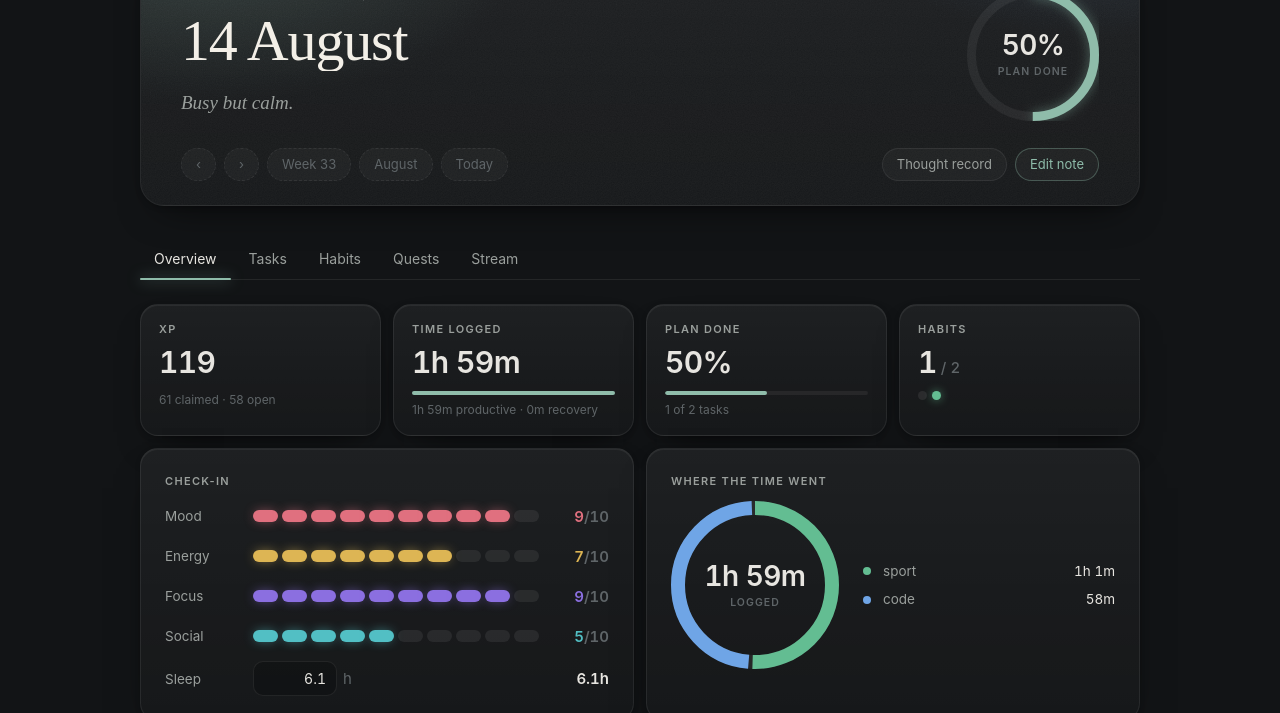
the day page › sets a number from a tap, a typed number, and refuses one out of range
Click the radio button named "Mood 3". click: coordinates (324, 516)
box: [311,510,336,522]
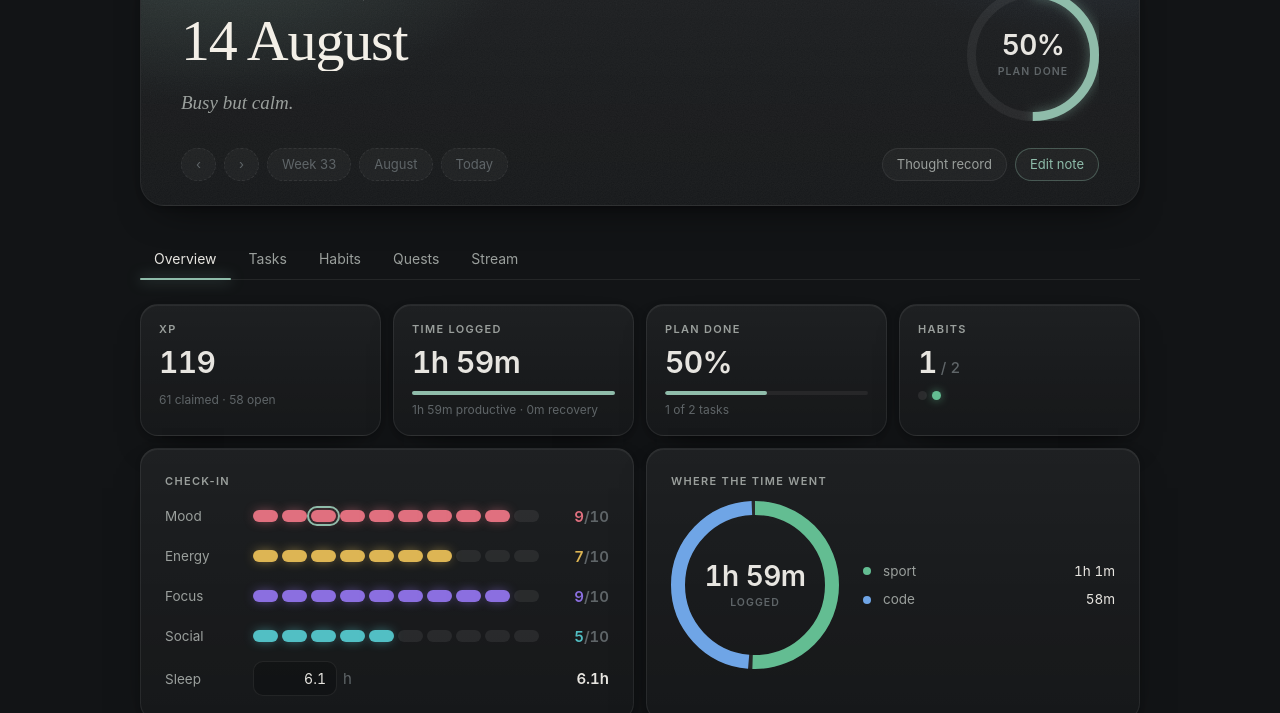
Replace the text in the field named "Sleep" with "7,5". click: coordinates (295, 679)
box: [253,661,337,696]
Then press Enter
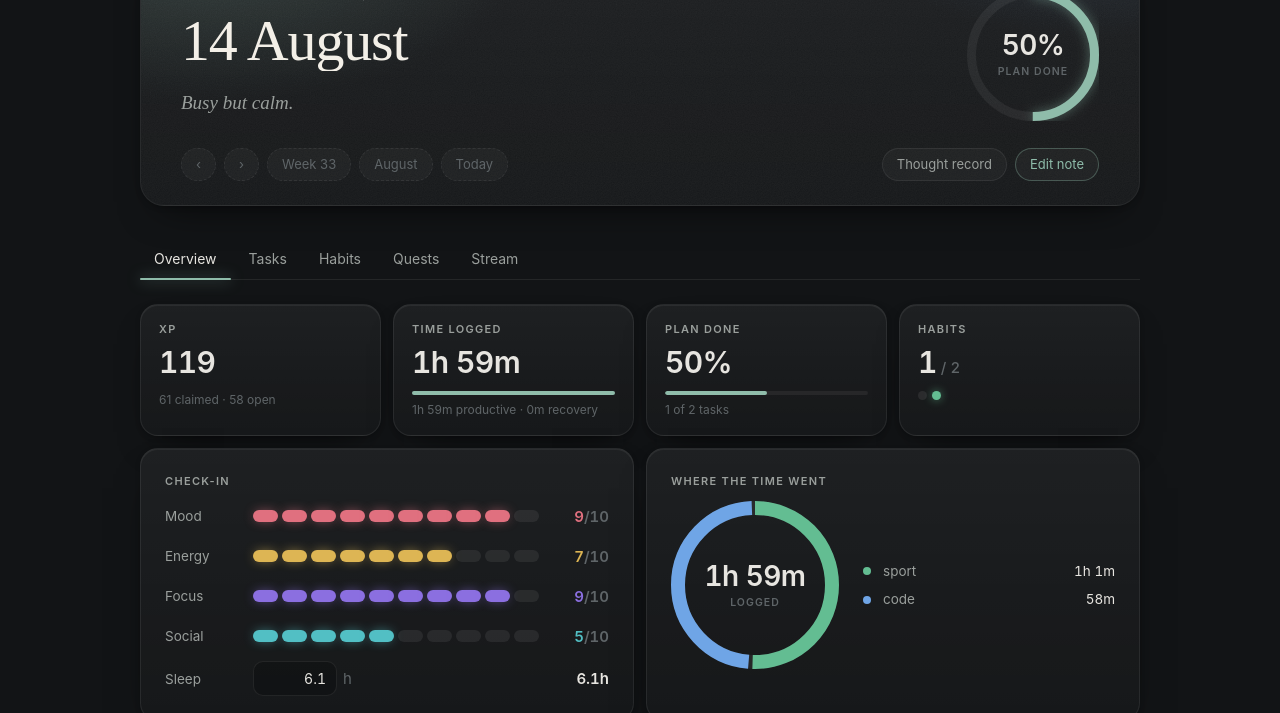
Replace the text in the field named "Sleep" with "30". click: coordinates (295, 679)
box: [253,661,337,696]
Then press Enter
(page scrolled)
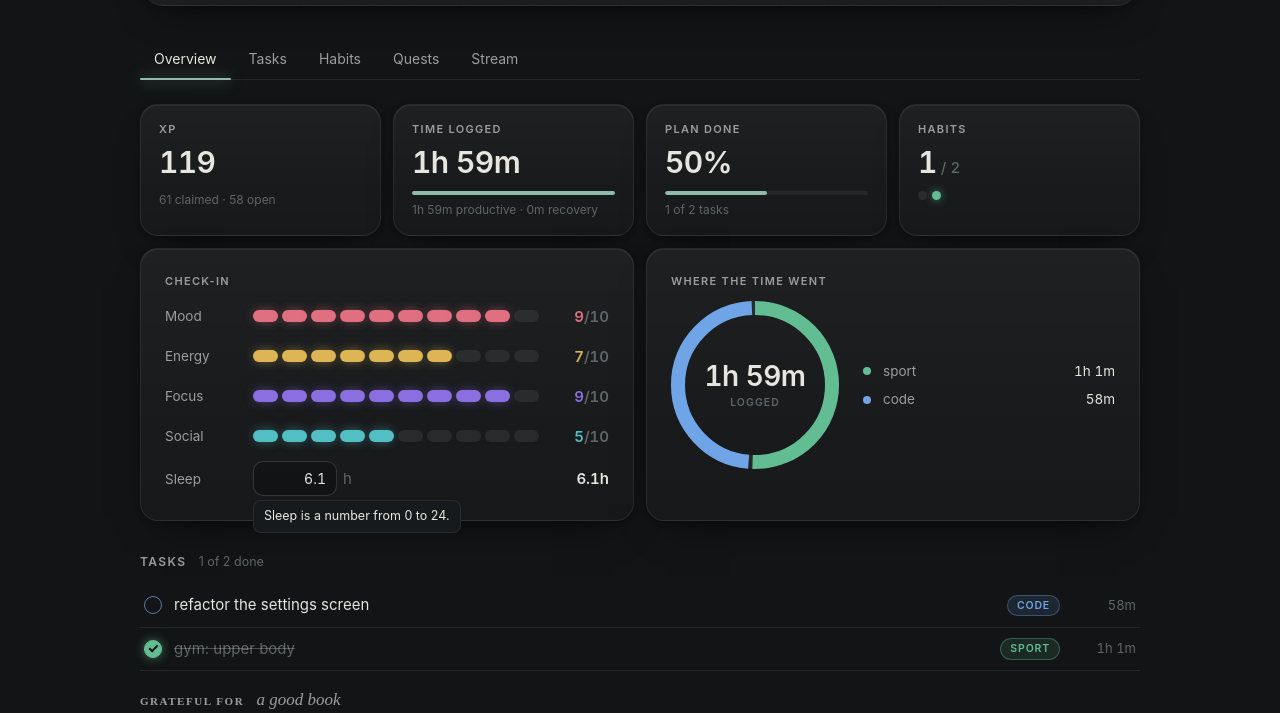
Check: the message reads "Sleep is a number from 0 to 24.", box [264,508,450,523]
